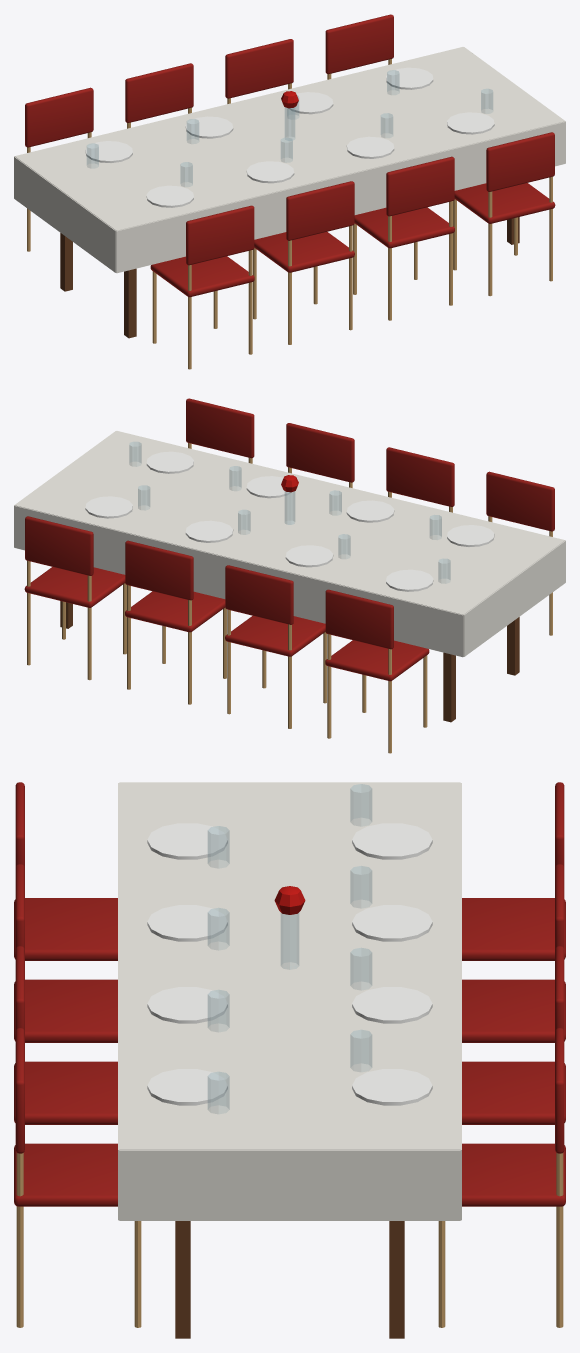
The model's file is hospitality.restaurant.laid_table_8.glb.
The picture shows the model from 3 angles, top to bottom: view 1: azimuth 30°, elevation 25°; view 2: azimuth 150°, elevation 25°; view 3: azimuth 270°, elevation 25°; orthographic projection. The views are drawn at different scales.
Parts seen in each view (by area): view 1: table__fabric_white, chairs__fabric_red, setting__ceramic, chairs__glulam, setting__glass, table__hardwood; view 2: table__fabric_white, chairs__fabric_red, setting__ceramic, chairs__glulam, setting__glass, table__hardwood; view 3: table__fabric_white, chairs__fabric_red, setting__ceramic, setting__glass, chairs__glulam, table__hardwood, setting__plastic_red.
Boxes of the visible parts, x1=… form: table__fabric_white: x1=14, y1=47, x2=565, y2=273; chairs__fabric_red: x1=25, y1=14, x2=555, y2=297; setting__ceramic: x1=85, y1=67, x2=494, y2=207; chairs__glulam: x1=27, y1=59, x2=552, y2=369; setting__glass: x1=87, y1=70, x2=492, y2=186; table__hardwood: x1=60, y1=217, x2=519, y2=338; table__fabric_white: x1=14, y1=431, x2=565, y2=657; chairs__fabric_red: x1=24, y1=398, x2=554, y2=681; setting__ceramic: x1=85, y1=451, x2=494, y2=591; chairs__glulam: x1=27, y1=443, x2=552, y2=753; setting__glass: x1=129, y1=442, x2=450, y2=583; table__hardwood: x1=60, y1=601, x2=519, y2=722; table__fabric_white: x1=118, y1=782, x2=461, y2=1220; chairs__fabric_red: x1=14, y1=782, x2=565, y2=1206; setting__ceramic: x1=147, y1=823, x2=432, y2=1105; setting__glass: x1=208, y1=784, x2=371, y2=1113; chairs__glulam: x1=16, y1=1153, x2=563, y2=1327; table__hardwood: x1=175, y1=1221, x2=404, y2=1338; setting__plastic_red: x1=274, y1=886, x2=305, y2=914.
Size of the model in its own units: 2.81 by 1.04 by 1.78.
